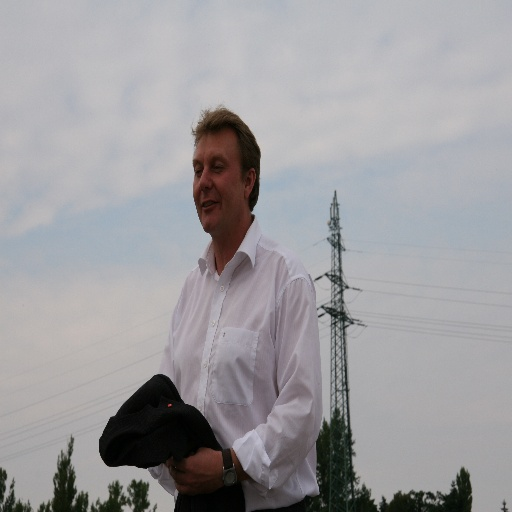hand: (170, 437, 227, 492)
